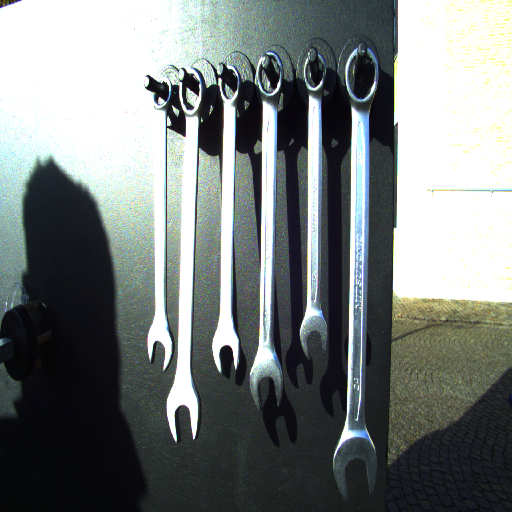bottom: (329, 429, 379, 508), (162, 391, 206, 446), (247, 354, 287, 412), (298, 312, 331, 365), (210, 331, 245, 377), (145, 324, 176, 373)
top: (340, 44, 381, 109), (176, 64, 209, 120), (252, 49, 288, 97), (299, 50, 329, 97), (213, 64, 243, 105), (149, 78, 176, 109)
